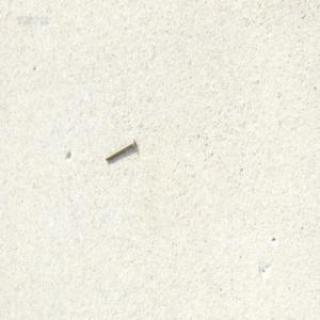Bolttrack_idkeyframe: (104, 136, 136, 162)
